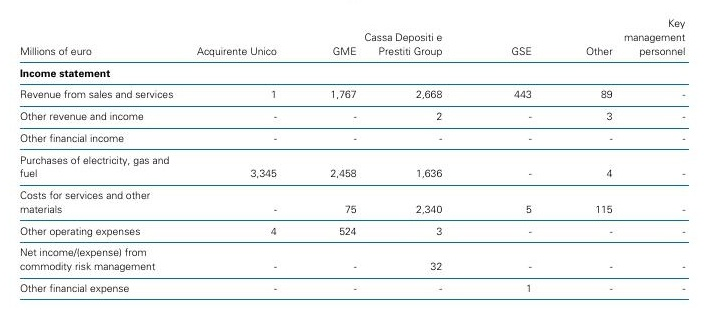table: (0, 0, 717, 313)
